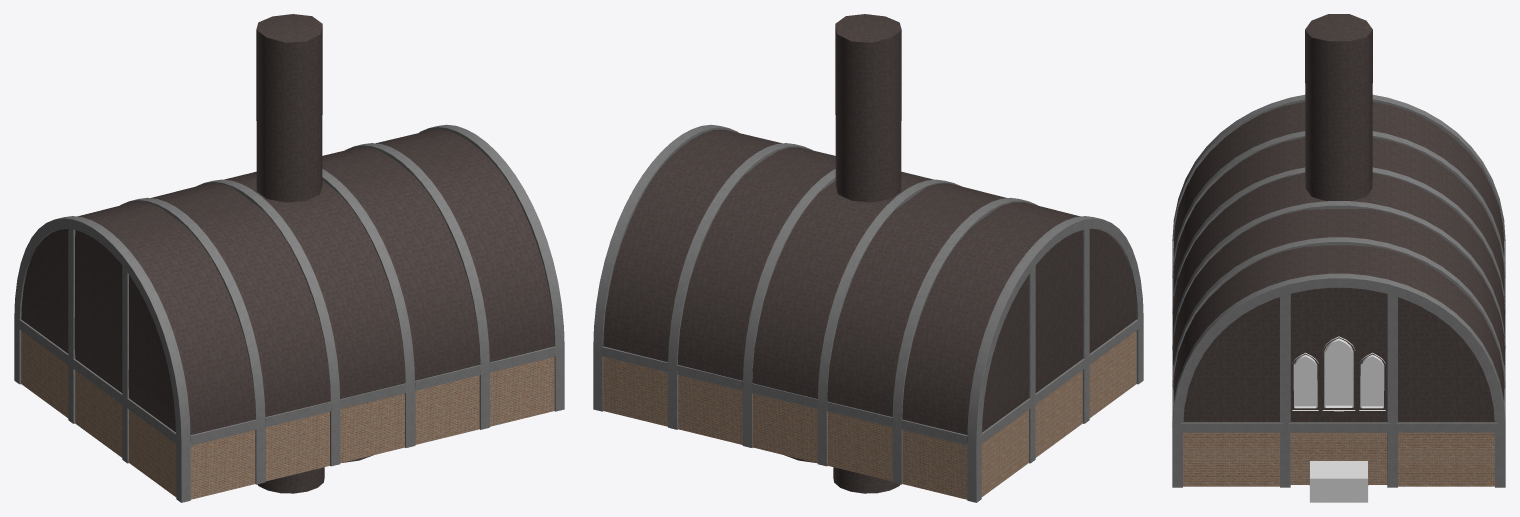
File: Level_Geo_1 1.fbx
The picture shows the model from 3 angles, left to right: view 1: azimuth 30°, elevation 25°; view 2: azimuth 150°, elevation 25°; view 3: azimuth 270°, elevation 25°; orthographic projection.
Parts seen in each view (by area): view 1: CeilingFloorStone_UVd, SteelBeams_UVd, BrickWalls_UVd; view 2: CeilingFloorStone_UVd, SteelBeams_UVd, BrickWalls_UVd; view 3: CeilingFloorStone_UVd, SteelBeams_UVd, BrickWalls_UVd, WindowBig_UVd, EntranceWalls, WindowFrames_UVd.
Part boxes in pixels (x1,y1,x2,y2): CeilingFloorStone_UVd: (21, 14, 554, 493); SteelBeams_UVd: (14, 124, 564, 502); BrickWalls_UVd: (21, 331, 554, 499); CeilingFloorStone_UVd: (603, 14, 1136, 493); SteelBeams_UVd: (593, 124, 1143, 502); BrickWalls_UVd: (603, 331, 1136, 499); CeilingFloorStone_UVd: (1172, 14, 1505, 485); SteelBeams_UVd: (1172, 94, 1505, 487); BrickWalls_UVd: (1183, 432, 1494, 486); WindowBig_UVd: (1293, 340, 1384, 407); EntranceWalls: (1310, 461, 1367, 502); WindowFrames_UVd: (1292, 336, 1385, 411).
Size of what is drawn, in the model's own units: 8872 by 9260 by 6200.
